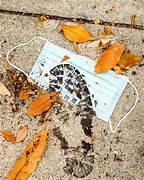Mask: (28, 41, 137, 131)
